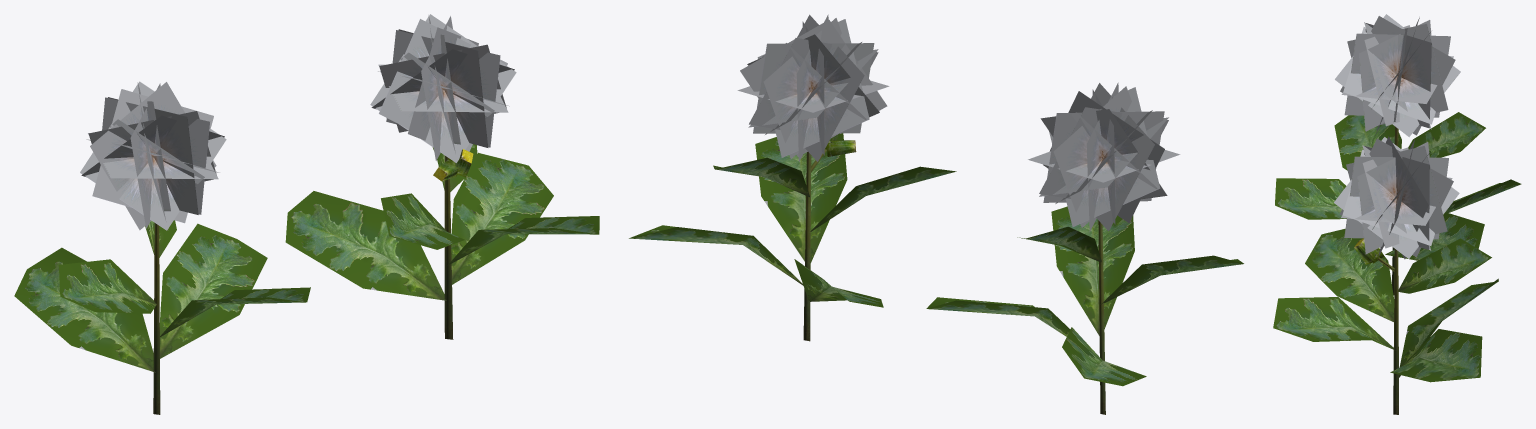
Rendered from Groundsel_m.FBX.
3 renders of one model, left to right at view 1: azimuth 30°, elevation 25°; view 2: azimuth 150°, elevation 25°; view 3: azimuth 270°, elevation 25°, orthographic. The views are drawn at different scales.
Visible parts, largest first — view 1: Groundsel_1, Groundsel_002; view 2: Groundsel_1, Groundsel_002; view 3: Groundsel_1, Groundsel_002.
Boxes of the visible parts, x1,y1,x2,y2 form: Groundsel_1: (285, 14, 599, 339); Groundsel_002: (14, 81, 310, 414); Groundsel_1: (629, 14, 956, 341); Groundsel_002: (926, 82, 1243, 414); Groundsel_1: (1273, 136, 1498, 414); Groundsel_002: (1275, 14, 1521, 294).
Bounding box in the file's own units: 77.49 × 44.18 × 36.37.
